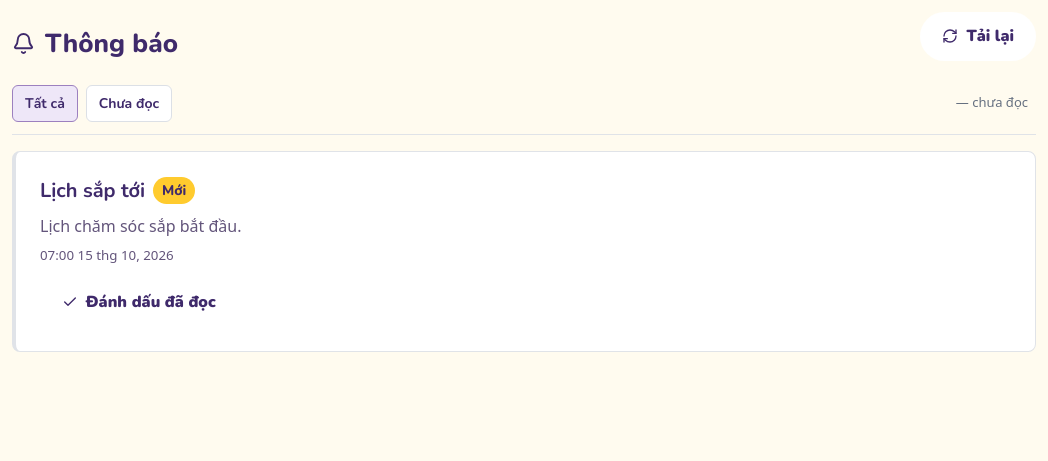
Test: NotificationsPage › keeps an item unread when markRead is pending
Click the button "Đánh dấu đã đọc" at (139, 302), box [40,278,238,327]
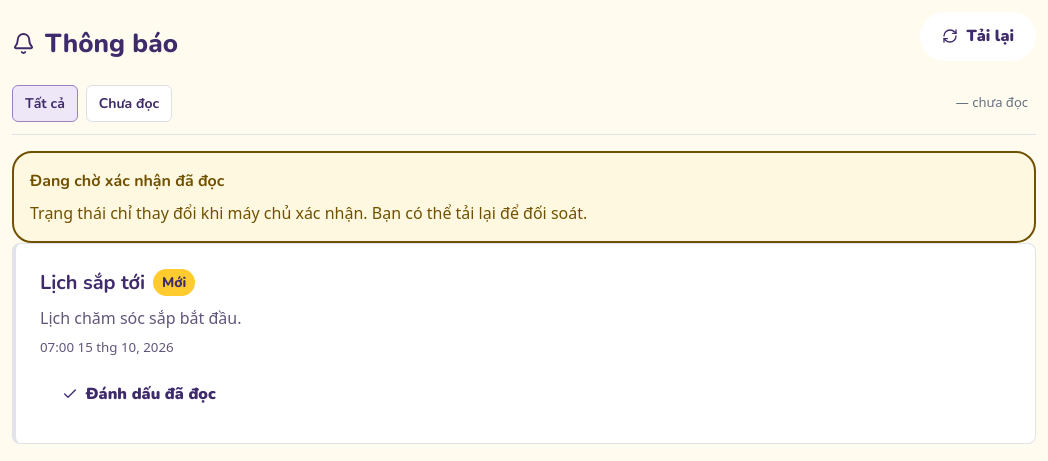
expect the button "Đánh dấu đã đọc" is enabled: met, box [40,370,238,419]
expect the heading "Đang chờ xác nhận đã đọc" is shown: met, box [30,170,224,192]
